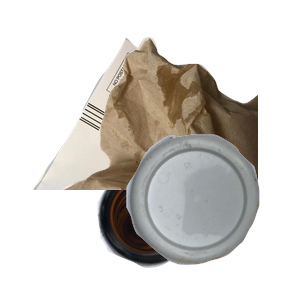glass: (95, 164, 286, 300)
paper: (31, 35, 271, 215)
plastic: (124, 132, 300, 300)
trash: (60, 35, 300, 215)
